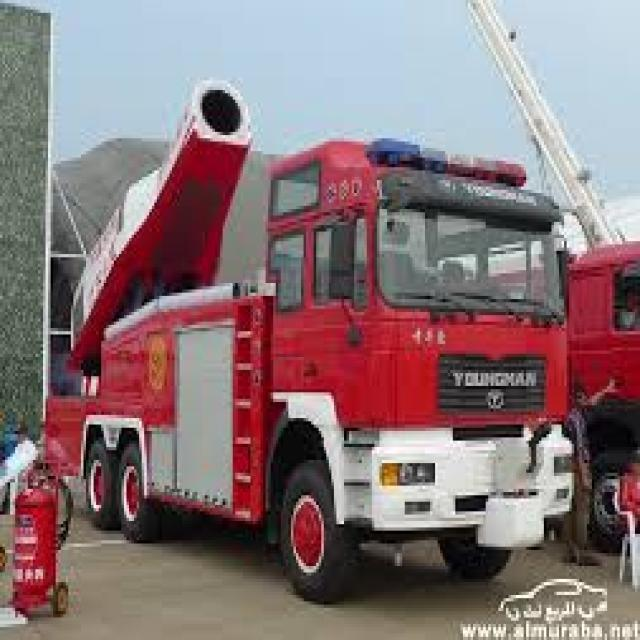emergency: (72, 61, 594, 595)
